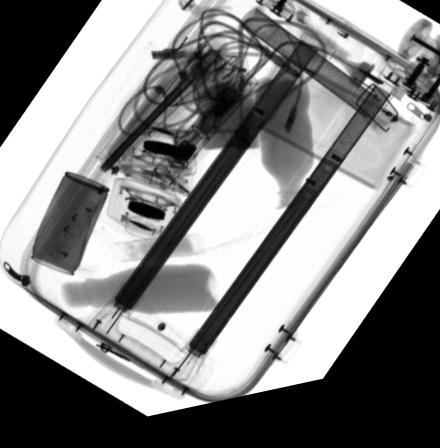Baton: (153, 81, 258, 189)
